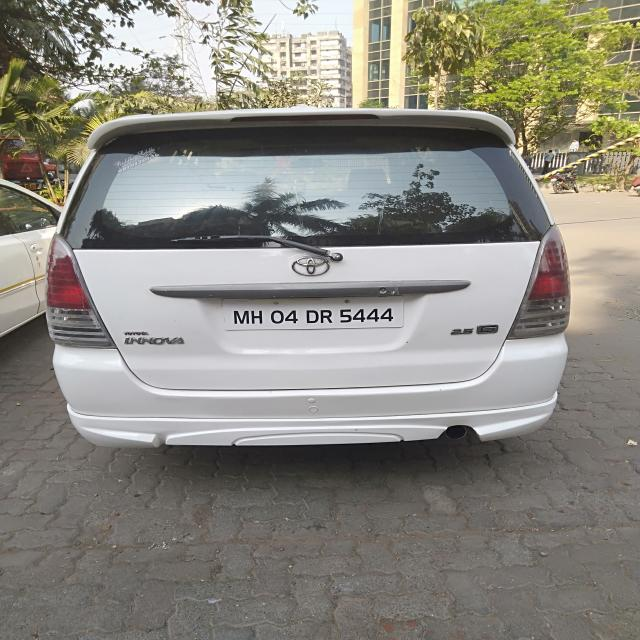Number-Plate: (232, 299, 401, 333)
